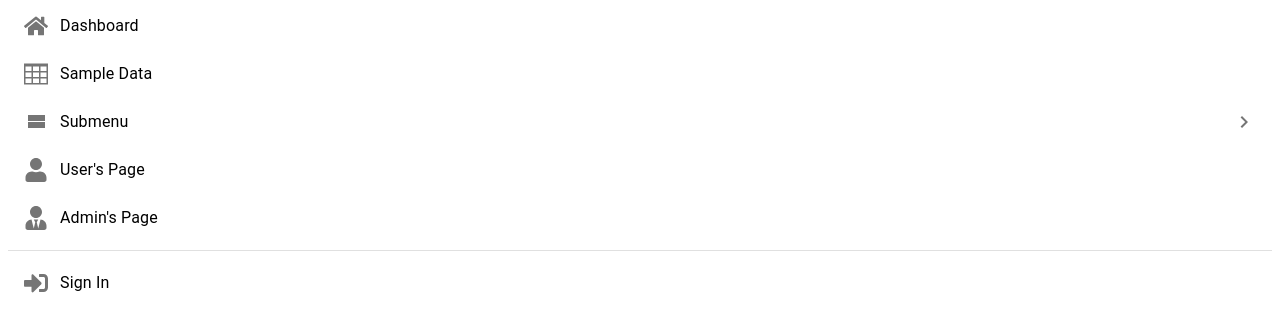
Test: Testing MenuItemsList Component › 2-nd level submenu click
Click the button "Submenu" at (94, 122), box x1=24 y1=110 x2=1256 y2=134
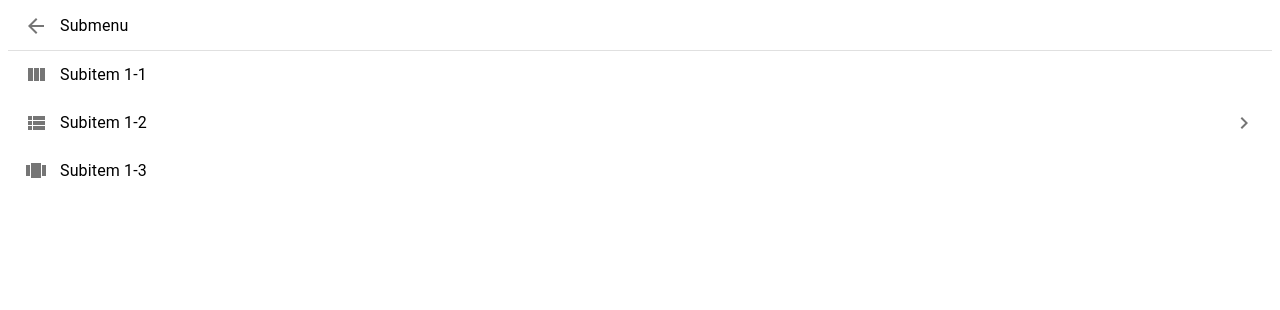
Click the button "Subitem 1-2" at (103, 122), box x1=24 y1=111 x2=1256 y2=135
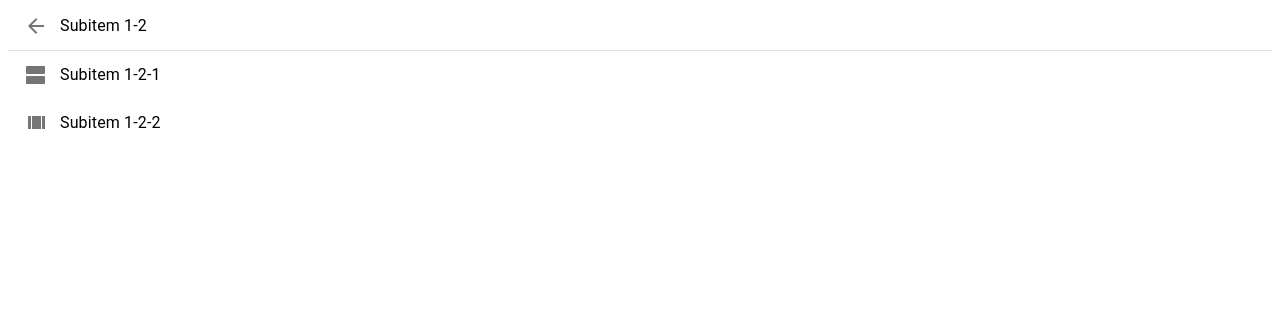
Now the text "Subitem 1-2" is shown, box x1=60 y1=16 x2=147 y2=35
Now the text "Subitem 1-2-1" is shown, box x1=60 y1=65 x2=161 y2=84
Now the text "Subitem 1-2-2" is shown, box x1=60 y1=113 x2=161 y2=132
